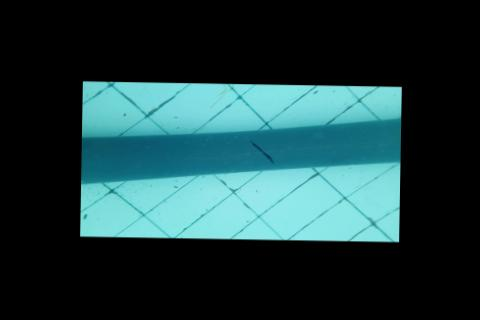keretakan: (247, 141, 275, 165)
